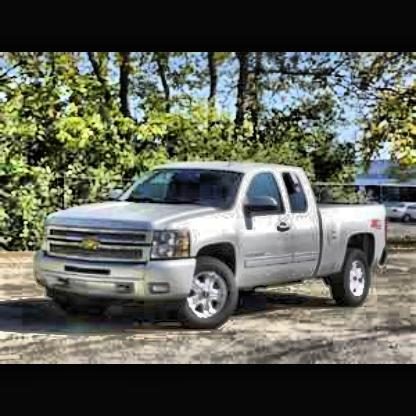Chevrolet Silverado 1500 Extended Cab 2012: (30, 160, 393, 331)
